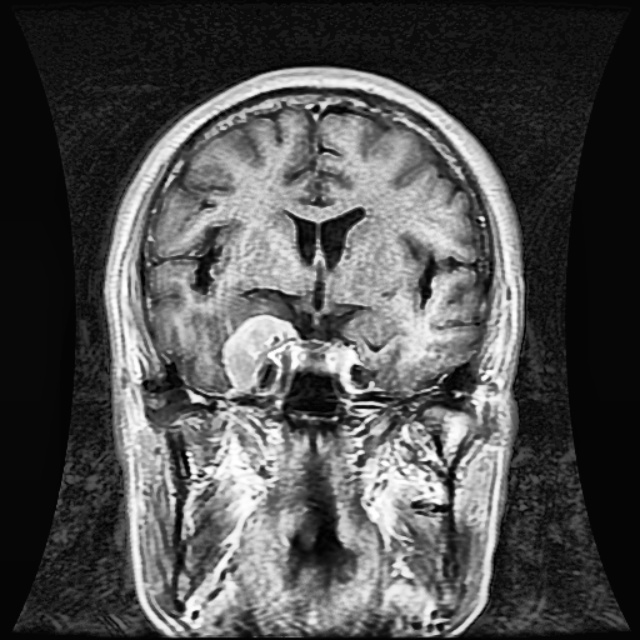Glioma: (220, 315, 297, 388)
